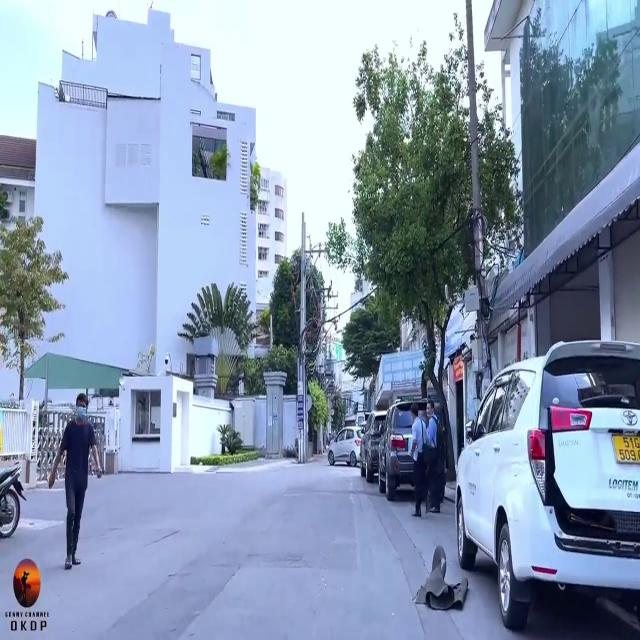bien_vang: (610, 430, 640, 468)
